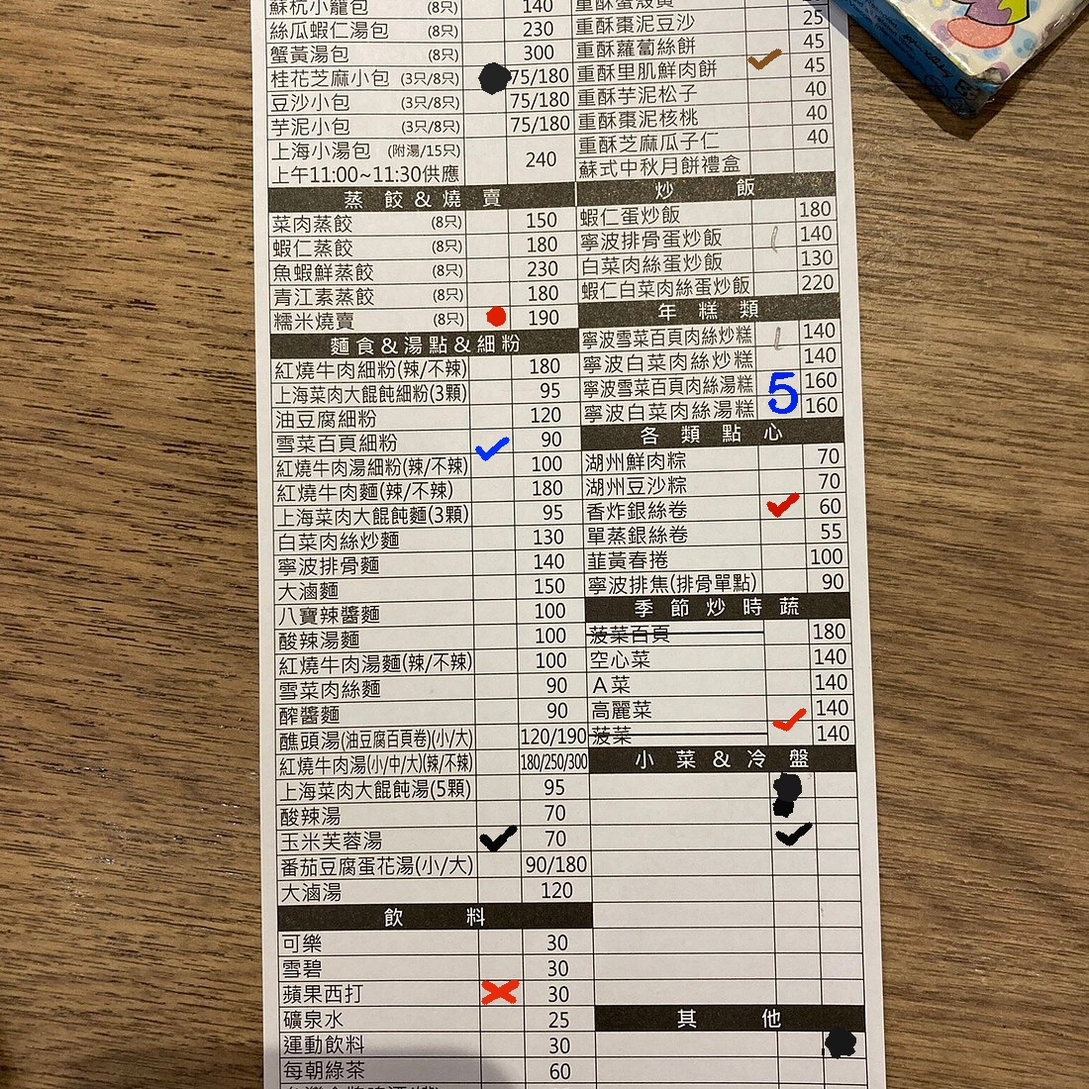marked_circle: (467, 303, 511, 331), (773, 796, 817, 824), (461, 62, 505, 90), (771, 769, 815, 797), (823, 1032, 866, 1059)
marked_number_5: (757, 369, 801, 397)
marked_tick: (766, 694, 810, 722), (747, 51, 791, 79), (760, 493, 804, 521), (772, 823, 816, 850), (468, 428, 512, 455), (477, 826, 521, 853)
marked_x: (479, 979, 523, 1007)
